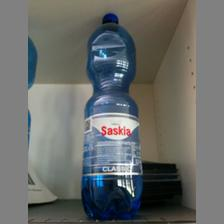Wasser: (80, 11, 144, 223)
